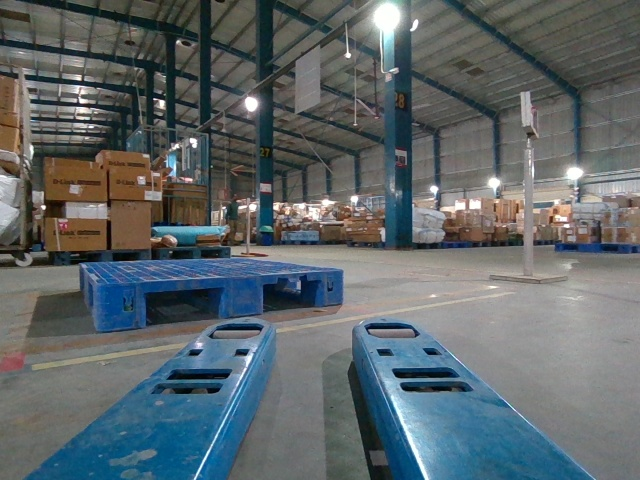block: (92, 281, 146, 334), (221, 273, 265, 321), (316, 268, 345, 310)
front: (101, 269, 343, 330)
hole pallet: (147, 284, 225, 329), (260, 280, 323, 316)
